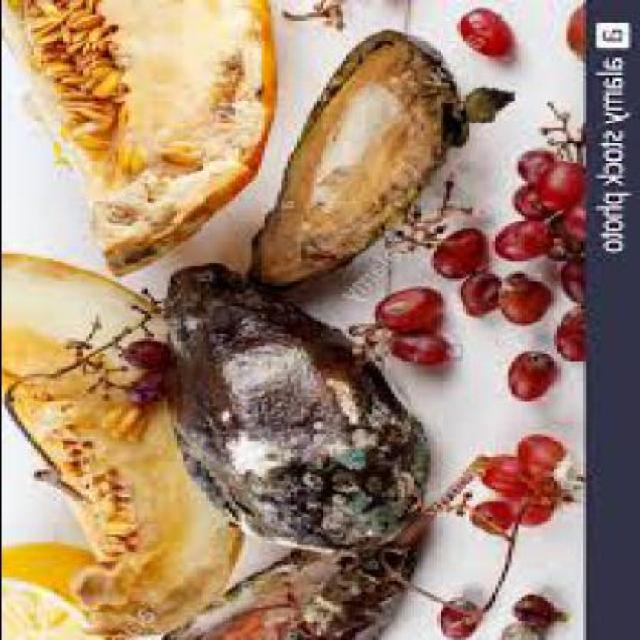BIODEGRADABLE: (1, 251, 237, 638), (156, 256, 419, 552), (2, 0, 270, 274), (156, 454, 484, 638), (244, 27, 451, 291), (1, 536, 94, 638), (371, 283, 442, 329), (491, 272, 549, 321), (451, 5, 507, 54), (428, 226, 484, 274), (491, 216, 552, 258), (497, 480, 555, 522), (503, 349, 552, 397), (530, 161, 576, 210), (383, 328, 445, 364), (513, 432, 559, 478), (478, 452, 527, 492), (458, 269, 498, 316), (123, 366, 175, 402), (434, 594, 474, 638), (464, 499, 510, 532), (550, 306, 578, 359), (506, 592, 552, 623), (117, 339, 166, 366), (506, 186, 546, 219), (552, 252, 578, 300), (556, 194, 578, 243), (513, 148, 545, 178), (562, 0, 578, 60)
